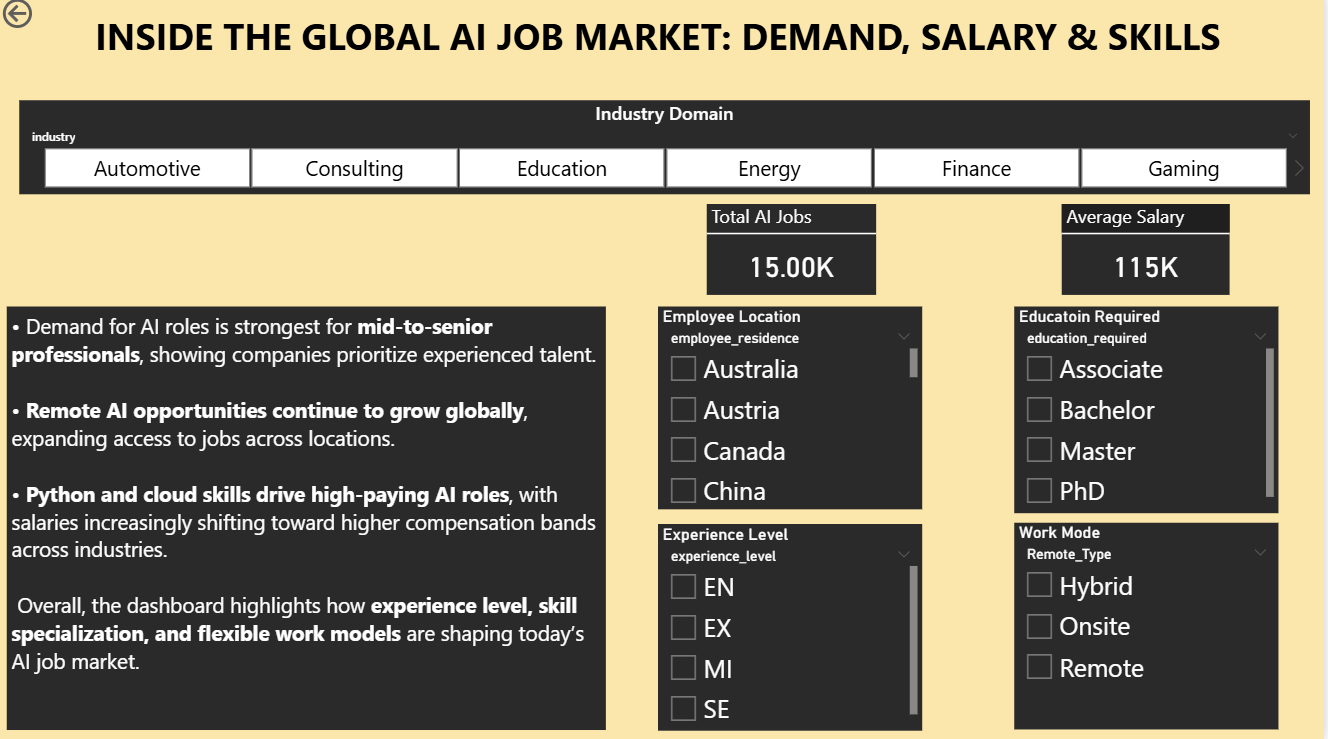

The dashboard page shown, as its layout file describes it:
{"tool":"powerbi","page":{"name":"Page 1","canvas":[1366,768],"ordinal":0},"visuals":[{"type":"clusteredColumnChart","title":"\"AI Job Distribution by Salary Band\"","fields":{"Y":["CountNonNull(Fact_Jobs.Job_ID)"]},"box":[406.7,453,370.6,245.8],"z":0},{"type":"barChart","title":"Top Skills in High-Paying AI Jobs","fields":{"Category":["Fact_Jobs.Skills"],"Y":["CountNonNull(Fact_Jobs.Job_ID)"]},"box":[792.7,453,265.1,245.8],"z":1000},{"type":"actionButton","box":[0,0,100,40],"z":2000},{"type":"hundredPercentStackedColumnChart","title":"Remote Work Type vs Salary Levels","fields":{"Category":["Fact_Jobs.Remote_Type"],"Y":["CountNonNull(Fact_Jobs.Job_ID)"],"Series":["Fact_Jobs.Salary_Band"]},"box":[1072,456.8,274.1,245.8],"z":3000},{"type":"slicer","title":"Employee Location","fields":{"Values":["Fact_Jobs.employee_residence"]},"box":[3.8,373.8,172.5,166.2],"z":4000},{"type":"slicer","title":"Experience Level","fields":{"Values":["Fact_Jobs.experience_level"]},"box":[200,373.8,153.8,166.2],"z":5000},{"type":"slicer","title":"Work Mode","fields":{"Values":["Fact_Jobs.Remote_Type"]},"box":[8.8,550,161.2,166.2],"z":6000},{"type":"slicer","title":"Educatoin Required","fields":{"Values":["Fact_Jobs.education_required"]},"box":[188.8,550,173.8,166.2],"z":7000},{"type":"textbox","box":[287,20.6,836.5,52.8],"z":8000},{"type":"barChart","title":"Job Distribution by Experience Level","fields":{"Category":["Fact_Jobs.experience_level"],"Y":["CountNonNull(Fact_Jobs.Job_ID)"]},"box":[792.7,221.3,557.2,217.5],"z":9000},{"type":"card","title":"Total AI Jobs","fields":{"Values":["Count(Fact_Jobs.Job_ID)"]},"box":[189.2,199.5,195.6,150.6],"z":10000},{"type":"card","title":"Average Salary","fields":{"Values":["Avg(Fact_Jobs.salary_usd)"]},"box":[3.8,200,176.2,150],"z":11000},{"type":"pieChart","title":"Job Distribution by Experience Level","fields":{"Category":["Fact_Jobs.experience_level"],"Y":["CountNonNull(Fact_Jobs.Job_ID)"]},"box":[406.7,227.8,370.6,205.9],"z":11001},{"type":"slicer","title":"Industry Domain","fields":{"Values":["Fact_Jobs.industry"]},"box":[445.3,102.9,882.8,96.5],"z":11002}]}

Visuals, with their boxes in screenshot pixels (x1, y1, x2, y2), scaled from the page's 1366x768 canvas onto the 1328x739 screenshot:
""AI Job Distribution by Salary Band"" clusteredColumnChart: x1=395 y1=436 x2=756 y2=672
"Top Skills in High-Paying AI Jobs" barChart: x1=771 y1=436 x2=1028 y2=672
actionButton: x1=0 y1=0 x2=97 y2=38
"Remote Work Type vs Salary Levels" hundredPercentStackedColumnChart: x1=1042 y1=440 x2=1309 y2=676
"Employee Location" slicer: x1=4 y1=360 x2=171 y2=520
"Experience Level" slicer: x1=194 y1=360 x2=344 y2=520
"Work Mode" slicer: x1=9 y1=529 x2=165 y2=689
"Educatoin Required" slicer: x1=184 y1=529 x2=353 y2=689
textbox: x1=279 y1=20 x2=1092 y2=71
"Job Distribution by Experience Level" barChart: x1=771 y1=213 x2=1312 y2=422
"Total AI Jobs" card: x1=184 y1=192 x2=374 y2=337
"Average Salary" card: x1=4 y1=192 x2=175 y2=337
"Job Distribution by Experience Level" pieChart: x1=395 y1=219 x2=756 y2=417
"Industry Domain" slicer: x1=433 y1=99 x2=1291 y2=192
